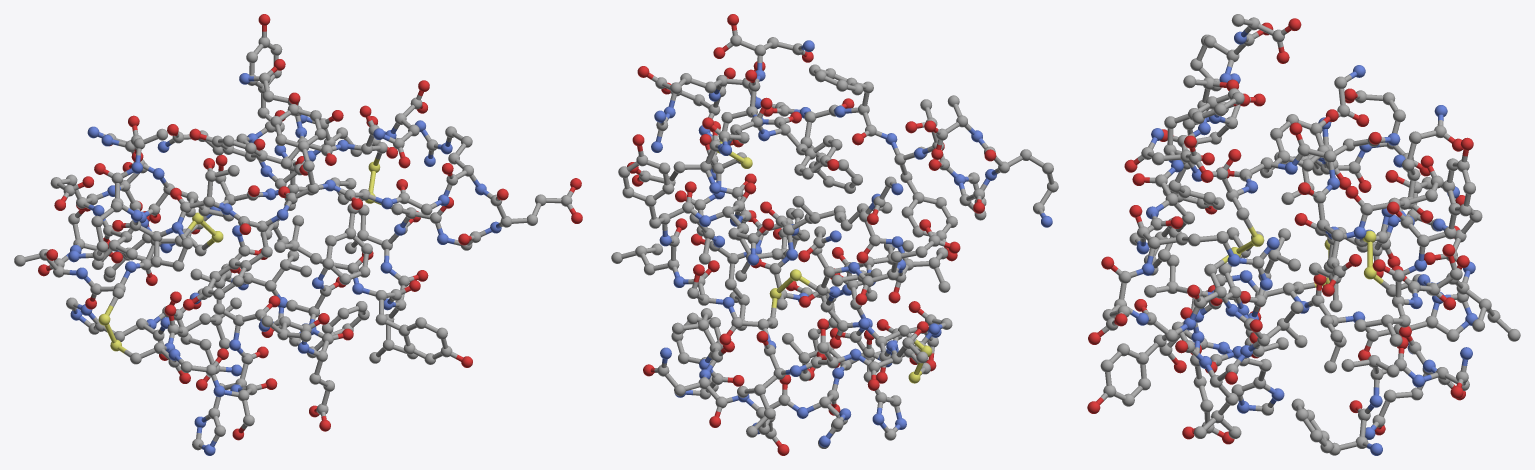
File: insulin-bas.glb
3 views of the same model, side by side, from view 1: azimuth 30°, elevation 25°; view 2: azimuth 150°, elevation 25°; view 3: azimuth 270°, elevation 25° (orthographic). The views are drawn at different scales.
Parts seen in each view (by area): view 1: insulin-bas; view 2: insulin-bas; view 3: insulin-bas.
Part boxes in pixels (left/top/right/bottom): insulin-bas: left=14, top=14, right=582, bottom=455; insulin-bas: left=611, top=14, right=1058, bottom=455; insulin-bas: left=1087, top=14, right=1520, bottom=455.
Bounding box in the file's own units: 31.45 × 22.72 × 23.43.
